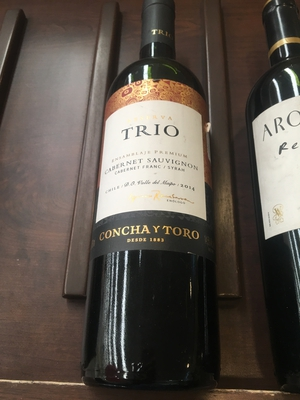trio cabernet sauvignon: (85, 18, 222, 371)
